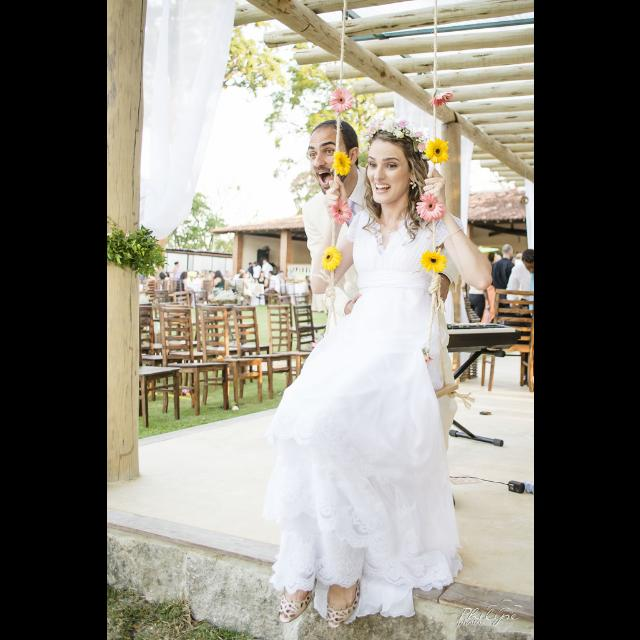Flower: (367, 118, 423, 150), (413, 192, 445, 222), (420, 249, 448, 275), (329, 197, 353, 225), (422, 138, 450, 162), (327, 88, 353, 112), (331, 150, 353, 178), (321, 245, 343, 271), (426, 90, 452, 108)
